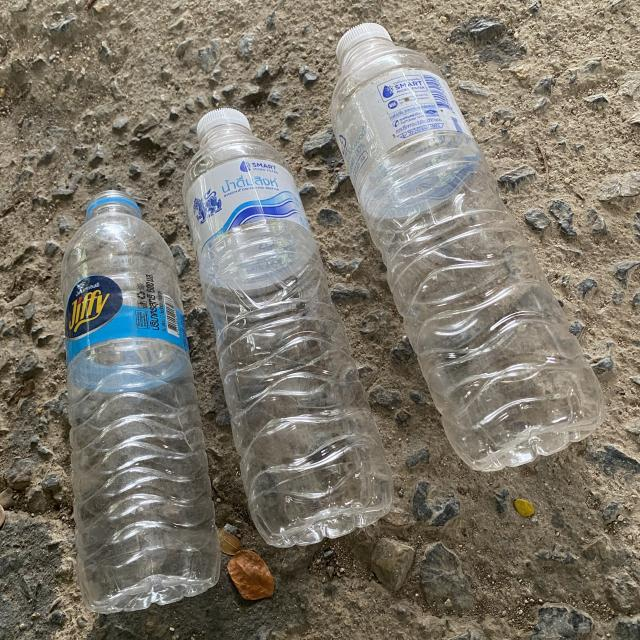plastik: (331, 22, 604, 471), (184, 109, 392, 548), (61, 190, 220, 614)
